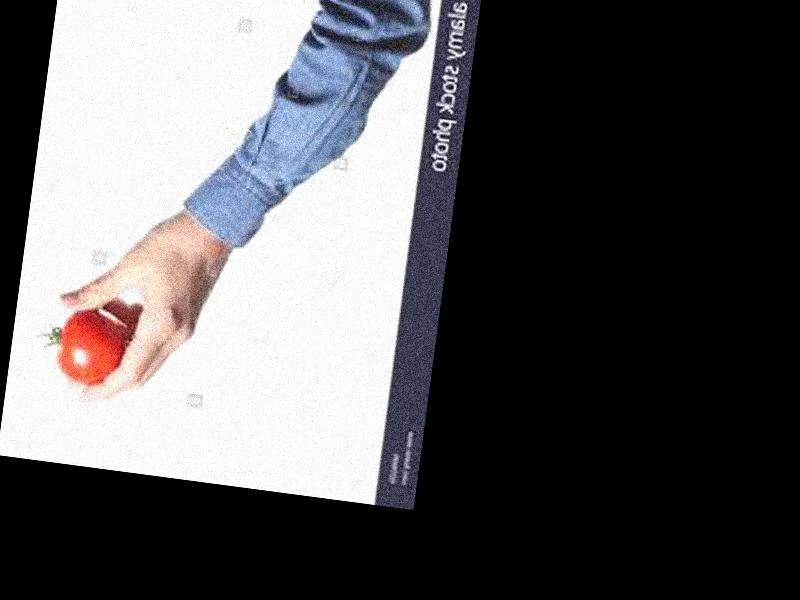Tomato: (55, 309, 125, 389)
